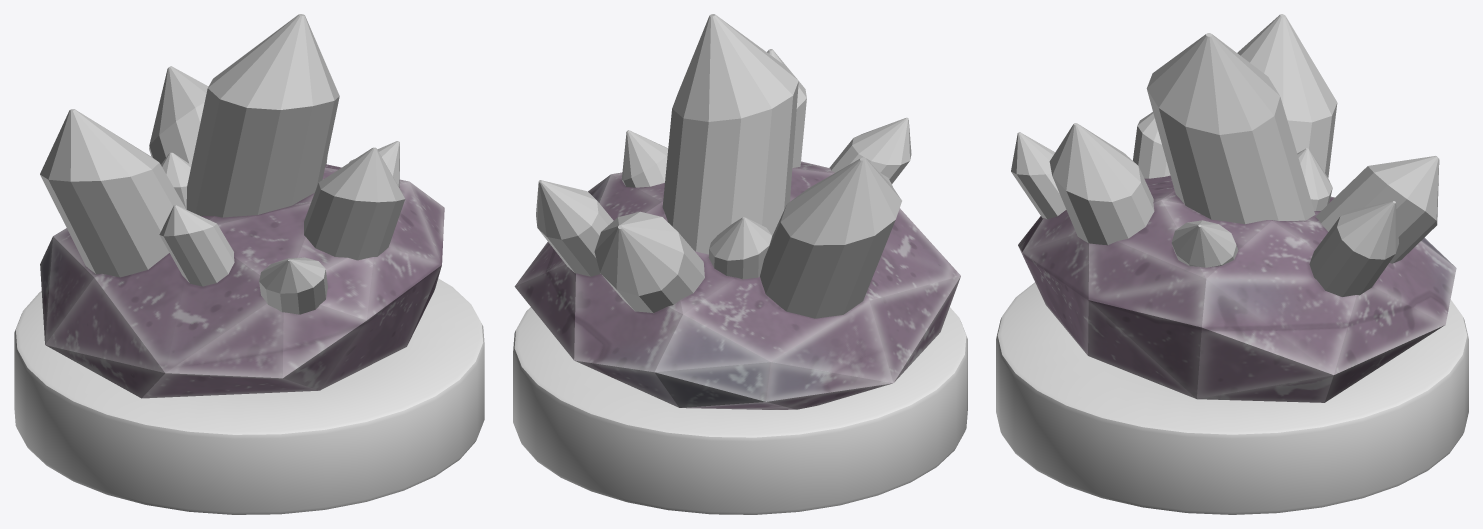
Rendered from amethyst_stand.fbx.
3 views of the same model, side by side, from view 1: azimuth 30°, elevation 25°; view 2: azimuth 150°, elevation 25°; view 3: azimuth 270°, elevation 25° (orthographic). The views are drawn at different scales.
Parts seen in each view (by area): view 1: Circle, Cylinder.006, Cube.002; view 2: Cylinder.006, Circle, Cube.002; view 3: Circle, Cylinder.006, Cube.002.
Part boxes in pixels (<box>): Circle: <box>14,278,484,514</box>; Cylinder.006: <box>40,14,405,314</box>; Cube.002: <box>40,164,444,398</box>; Cylinder.006: <box>536,14,911,318</box>; Circle: <box>513,307,967,514</box>; Cube.002: <box>514,161,960,409</box>; Circle: <box>996,282,1468,514</box>; Cylinder.006: <box>1011,14,1439,296</box>; Cube.002: <box>1018,175,1456,402</box>.
Bounding box in the file's own units: 200 × 188 × 200.
